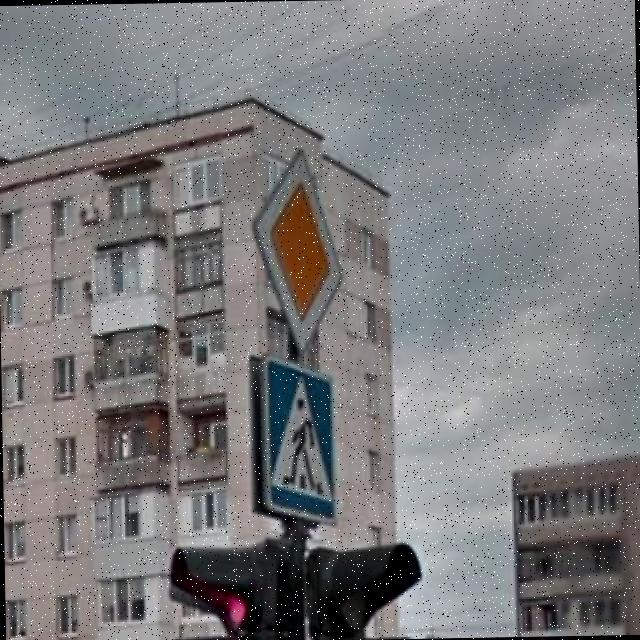Droga z pierwszenstwem: (246, 142, 348, 358)
Przejscie dla pieszych: (254, 351, 340, 531)
